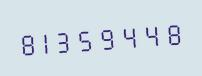eight: (17, 25, 37, 60), (164, 15, 184, 50)
five: (80, 21, 100, 56)
four: (122, 18, 142, 53), (143, 17, 163, 51)
nine: (101, 20, 121, 54)
one: (38, 24, 58, 58)
three: (59, 22, 79, 57)
